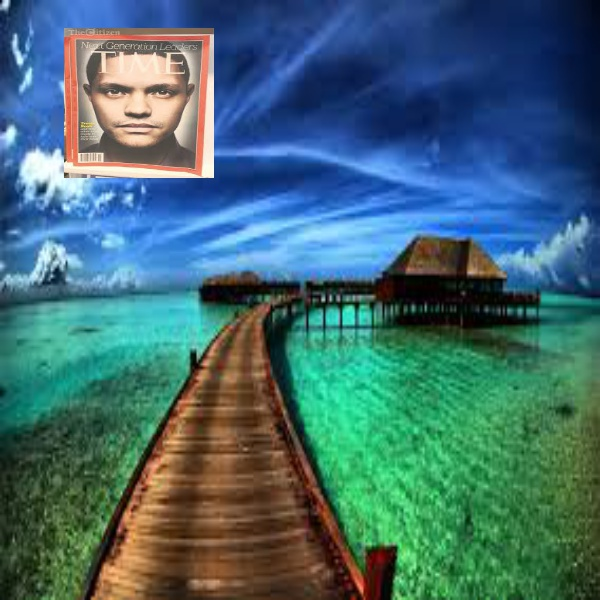time_cover: (59, 25, 215, 181)
